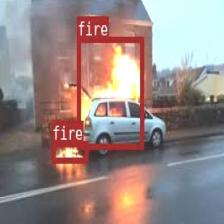fire: (77, 36, 143, 148), (51, 140, 88, 162)
